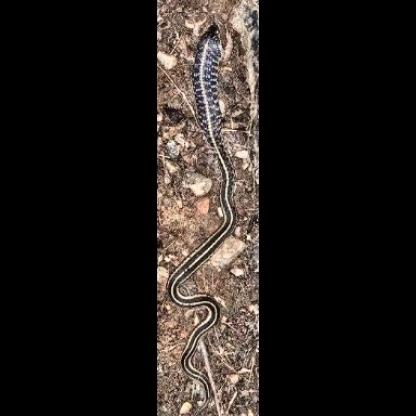Snake: (166, 16, 235, 408)
